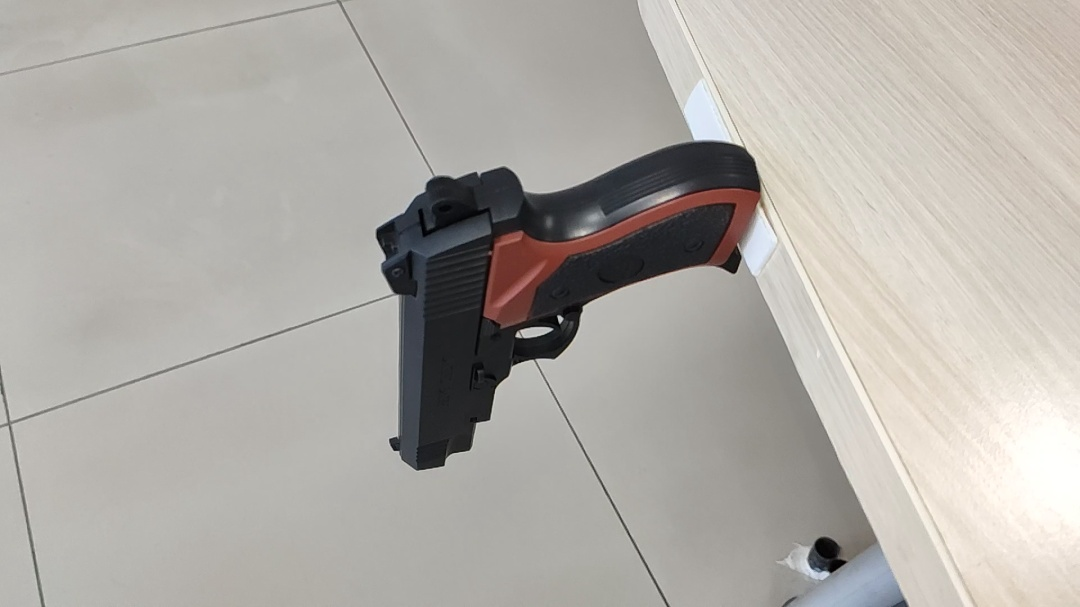gun: (659, 179, 907, 316)
